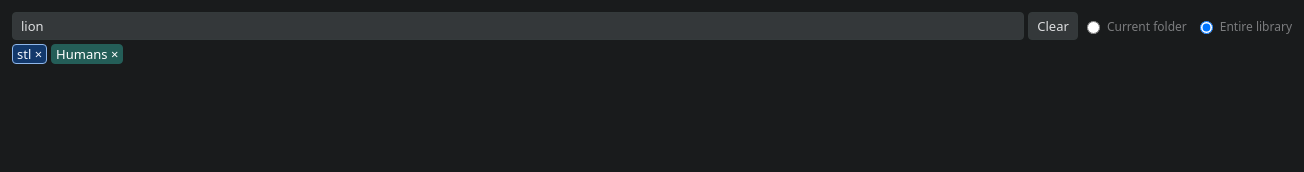
Test: Clear filters › clears search, file types, tags, and creator in one update
Click the button with aria-label "Clear filters" at (1053, 26), box left=1028, top=12, right=1078, bottom=40
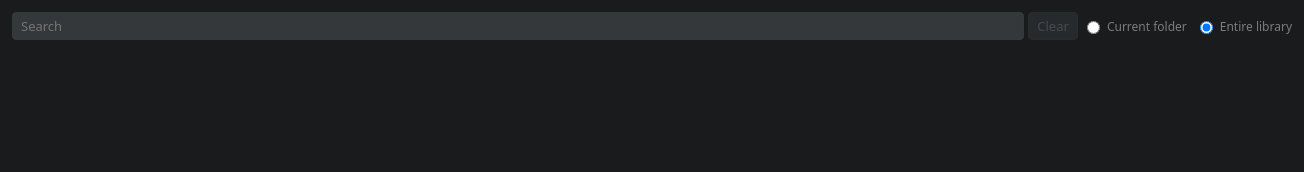
expect the search field labelled "Search" is empty: met, box left=12, top=12, right=1024, bottom=40
expect the button with aria-label "Clear filters" is disabled: met, box left=1028, top=12, right=1078, bottom=40
